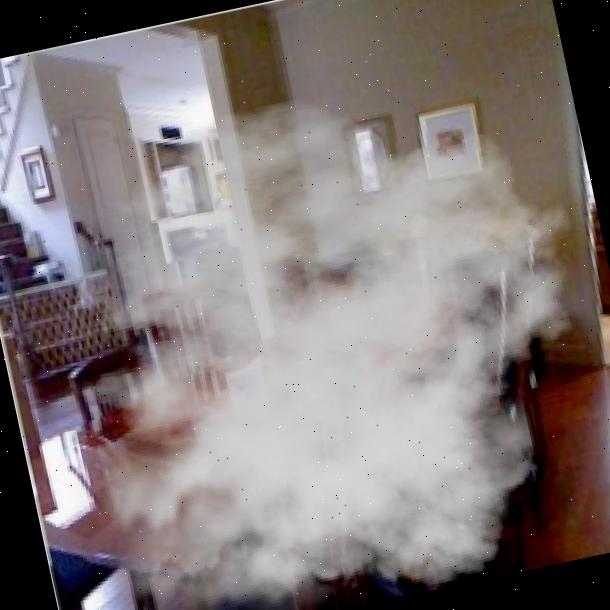smoke: (0, 45, 610, 610)
